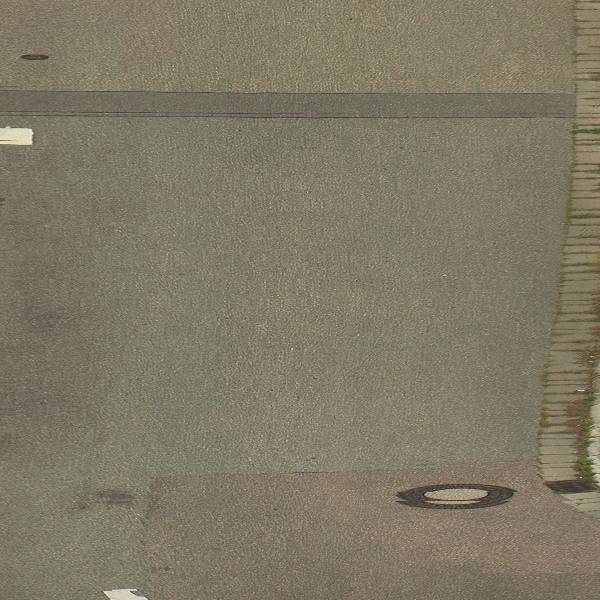road_damage: (14, 83, 563, 124)
